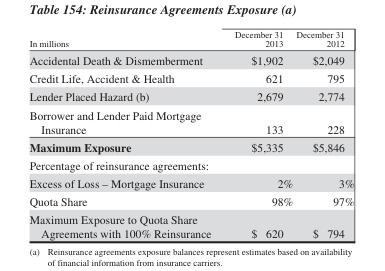table: (28, 29, 353, 239)
table column: (28, 29, 222, 239), (222, 29, 293, 239), (293, 29, 353, 239)
table column header: (28, 29, 353, 50)
table projected row header: (28, 155, 353, 174)
table row: (28, 105, 353, 137), (28, 210, 353, 239), (28, 29, 353, 50), (28, 50, 353, 69), (28, 155, 353, 174), (28, 69, 353, 87), (28, 87, 353, 105), (28, 137, 353, 155), (28, 174, 353, 192), (28, 192, 353, 210)
